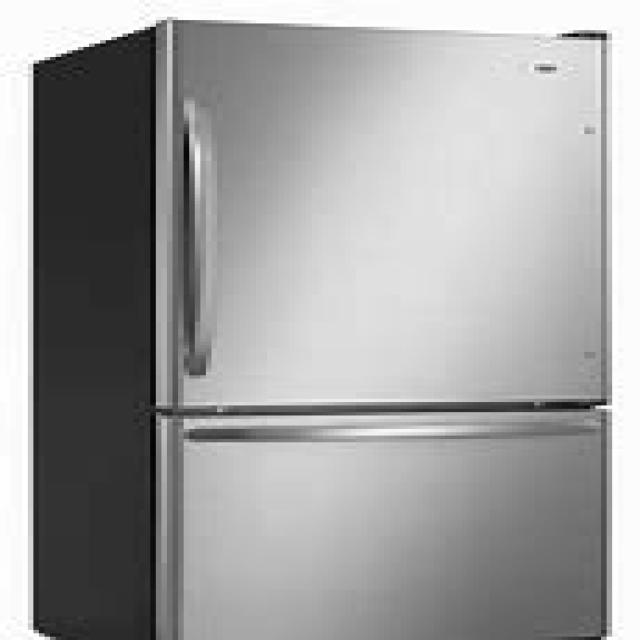fridge: (28, 16, 612, 636)
